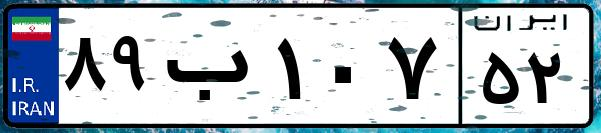0: (330, 28, 385, 110)
1: (270, 28, 330, 110)
2: (525, 38, 570, 115)
5: (475, 38, 525, 113)
7: (385, 28, 445, 110)
8: (57, 26, 110, 100)
9: (110, 28, 158, 98)
ب: (158, 20, 270, 120)
